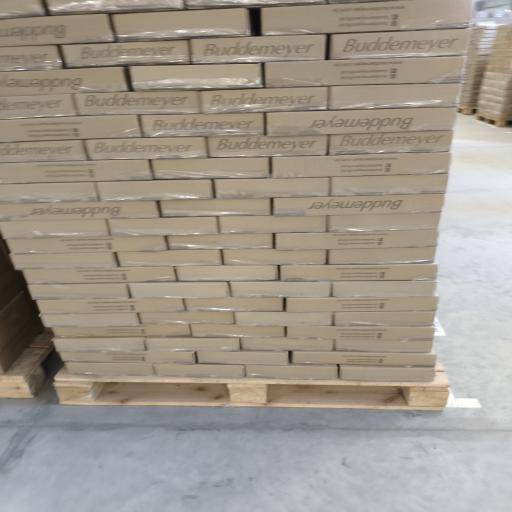pallet: (54, 364, 449, 410), (0, 334, 53, 398), (476, 114, 511, 127), (457, 108, 476, 115)
